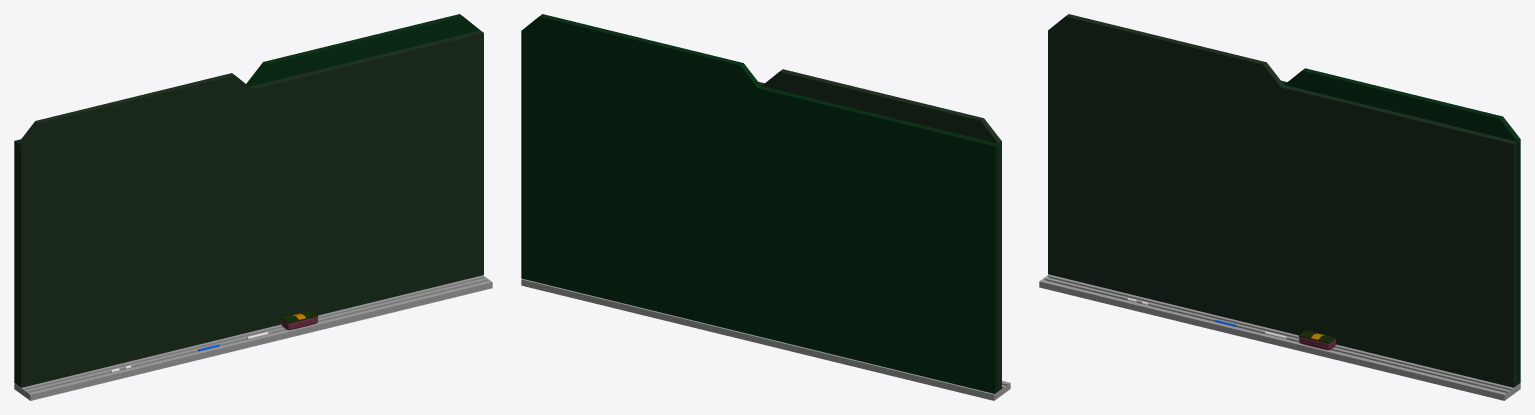
The model's file is board.fbx.
The picture shows the model from 3 angles, left to right: view 1: azimuth 30°, elevation 25°; view 2: azimuth 150°, elevation 25°; view 3: azimuth 330°, elevation 25°; orthographic projection. The views are drawn at different scales.
Parts seen in each view (by area): view 1: BOARD_01, Cube, BOARD_02; view 2: BOARD_02, BOARD_01, Cube; view 3: BOARD_01, Cube, BOARD_02.
Part boxes in pixels (box(x1,y1,x2,y2)): BOARD_01: box(18, 30, 483, 387); Cube: box(14, 275, 492, 400); BOARD_02: box(14, 14, 480, 385); BOARD_02: box(521, 14, 998, 393); BOARD_01: box(758, 69, 1001, 390); Cube: box(521, 278, 1010, 400); BOARD_01: box(1048, 14, 1516, 387); Cube: box(1039, 274, 1520, 400); BOARD_02: box(1281, 68, 1520, 384).
Size of the model in its own units: 800 by 441 by 48.28.
